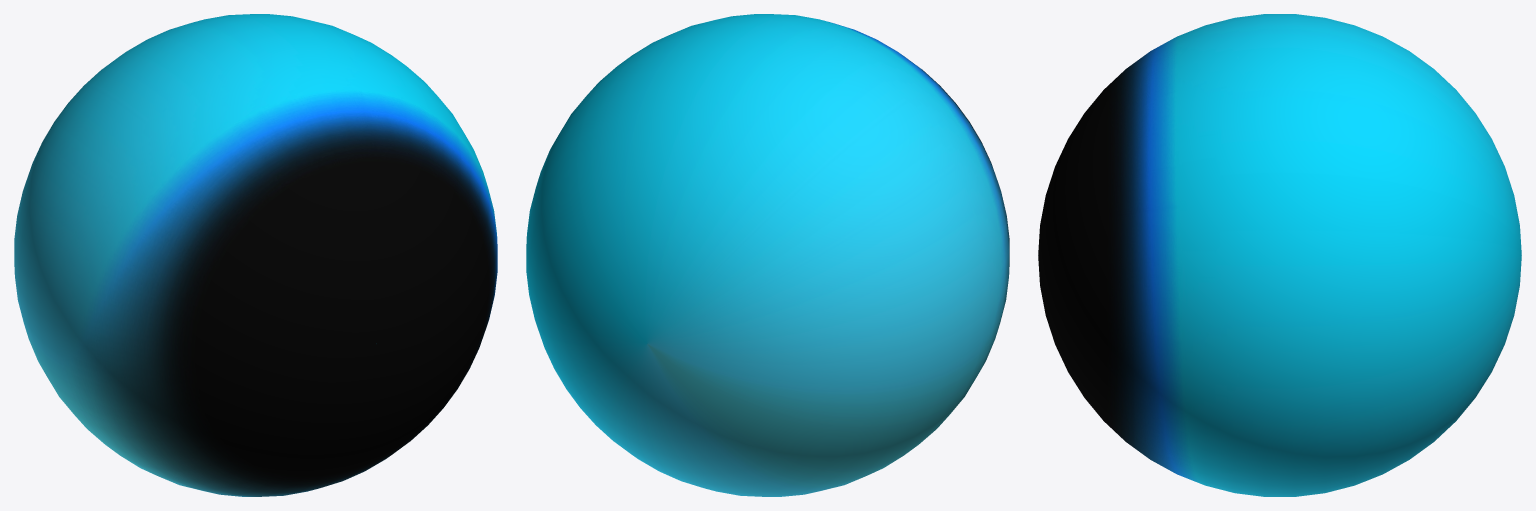
The model's file is atmosphere10.glb.
3 views of the same model, side by side, from view 1: azimuth 30°, elevation 25°; view 2: azimuth 150°, elevation 25°; view 3: azimuth 270°, elevation 25° (orthographic).
Visible parts, largest first — view 1: atmosphere; view 2: atmosphere; view 3: atmosphere.
Part boxes in pixels (x1,y1,x2,y2): atmosphere: (14,14,497,496); atmosphere: (526,14,1009,496); atmosphere: (1038,14,1521,496).
Size of what is drawn, in the model's own units: 3.28 by 3.28 by 3.28.
1 material, 1 textured.
